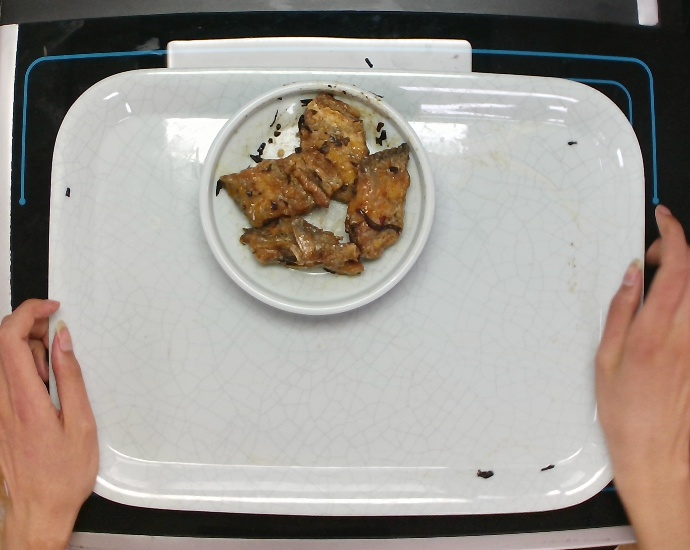JYsf-Xiao_Yuan_Pan: (191, 69, 444, 326)
